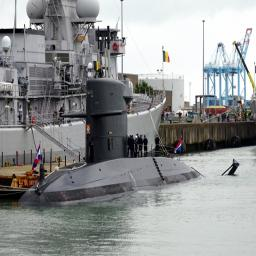submarine: (18, 27, 241, 207)
